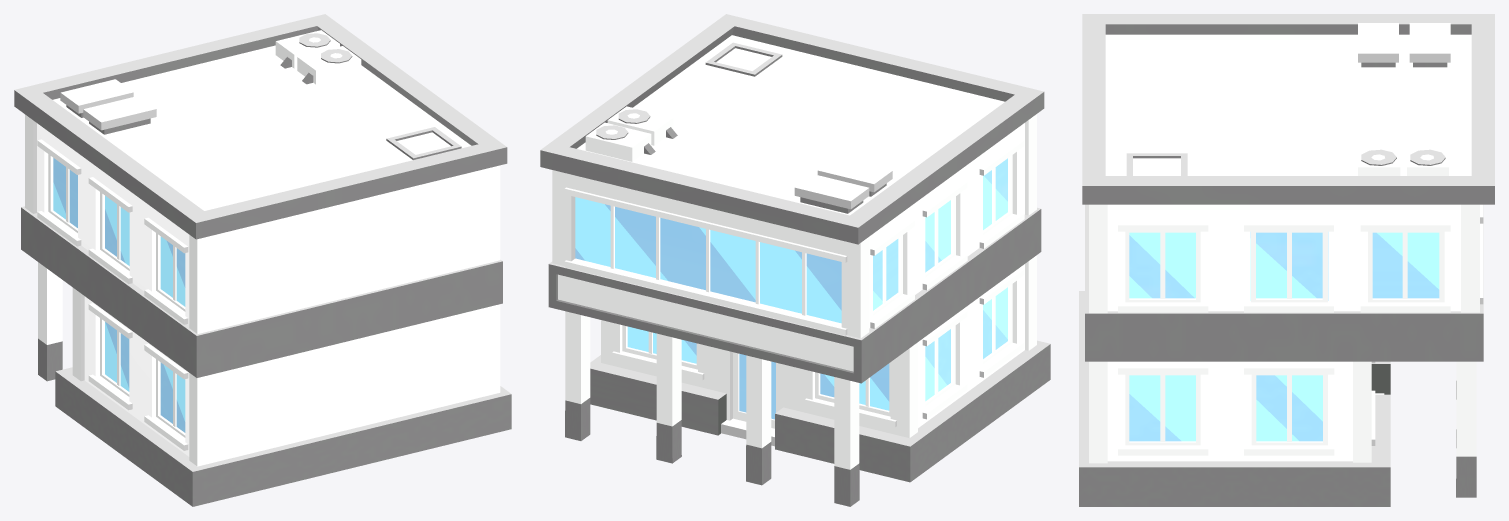
File: bank.005.glb
The picture shows the model from 3 angles, left to right: view 1: azimuth 30°, elevation 25°; view 2: azimuth 150°, elevation 25°; view 3: azimuth 270°, elevation 25°; orthographic projection. The views are drawn at different scales.
Parts seen in each view (by area): view 1: bank.005(Clone); view 2: bank.005(Clone); view 3: bank.005(Clone).
Part boxes in pixels (x1,y1,x2,y2): bank.005(Clone): (14, 14, 511, 506); bank.005(Clone): (540, 14, 1050, 506); bank.005(Clone): (1079, 14, 1494, 506).
Bounding box in the file's own units: 7.1 × 6.13 × 7.07.
1 material, 1 textured.
